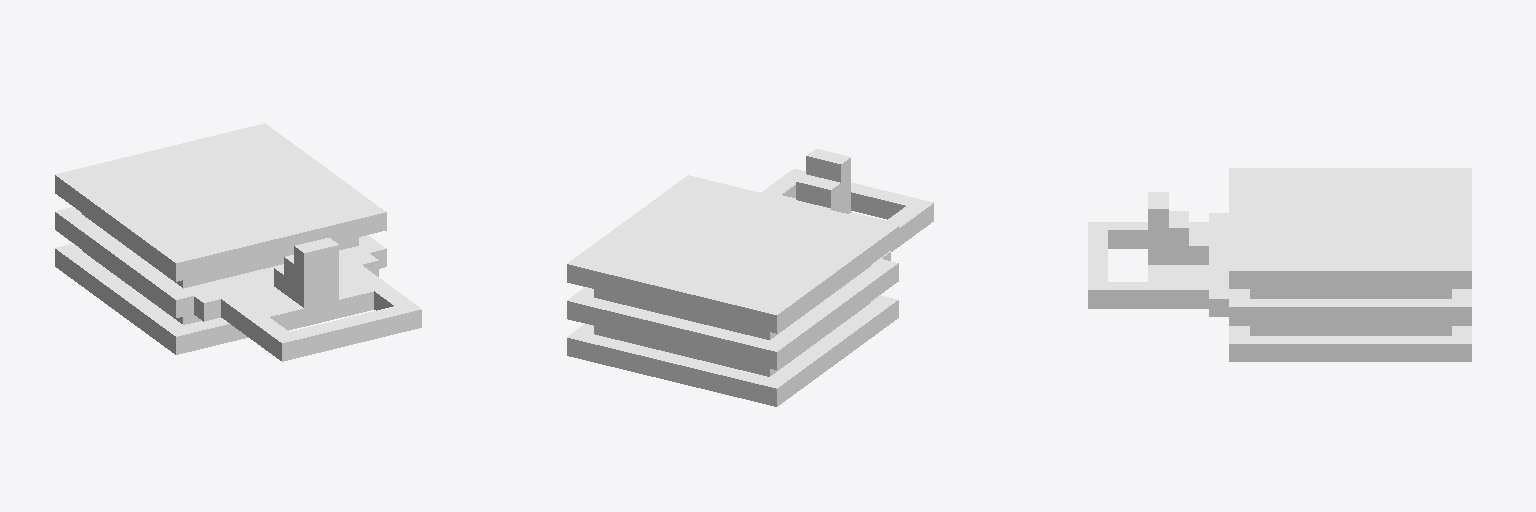
Rendered from Press-1-press.obj.
3 views of the same model, side by side, from view 1: azimuth 30°, elevation 25°; view 2: azimuth 150°, elevation 25°; view 3: azimuth 270°, elevation 25° (orthographic).
Visible parts, largest first — view 1: press; view 2: press; view 3: press.
Boxes of the visible parts, <box> form: press: <box>55,123,421,361</box>; press: <box>567,149,933,406</box>; press: <box>1088,168,1471,361</box>.
Size of the model in its own units: 1.2 by 0.6 by 1.9.